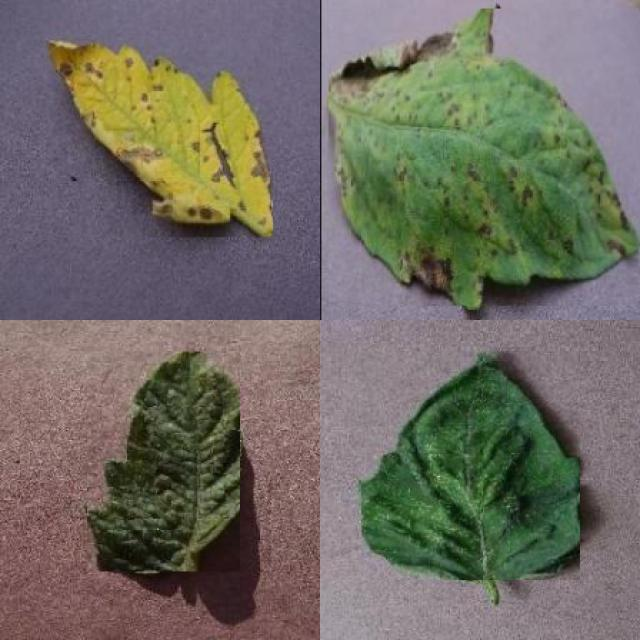Septoria: (328, 8, 638, 306), (47, 37, 273, 237)
Spider Mites: (361, 352, 580, 581), (87, 352, 240, 572)
